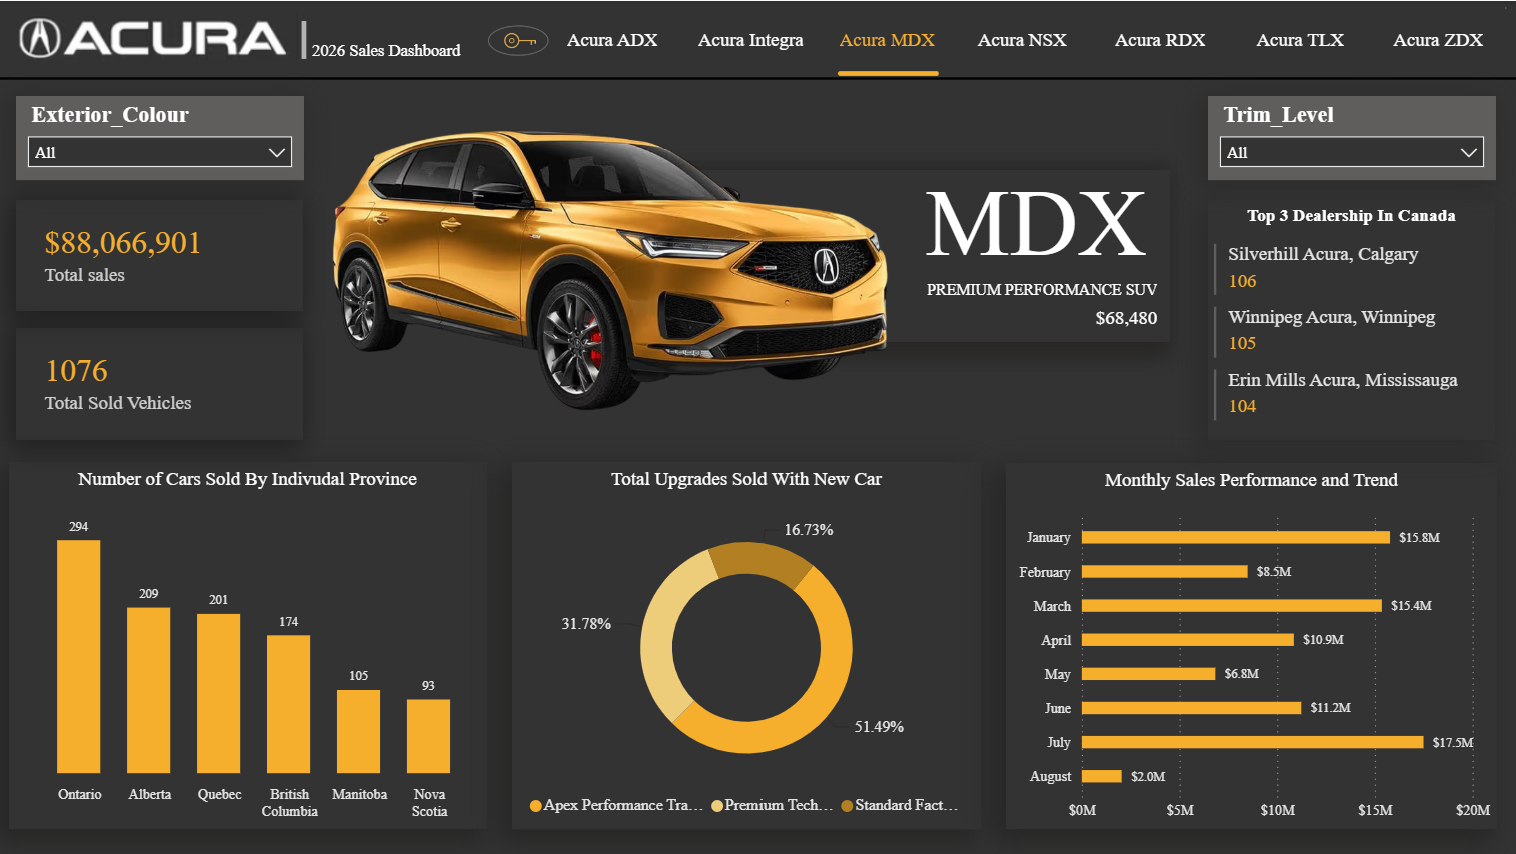

The dashboard page shown, as its layout file describes it:
{"tool":"powerbi","page":{"name":"Page 1","canvas":[1280,720],"ordinal":0},"visuals":[{"type":"actionButton","box":[467.3,12.3,100,40],"z":0,"group":"g1"},{"type":"shape","box":[0,59.3,1280,12.6],"z":0},{"type":"image","box":[0,1,251.9,63.2],"z":1000},{"type":"actionButton","box":[583.8,12.3,100,39.8],"z":1000,"group":"g1"},{"type":"actionButton","box":[698.3,12.3,100,39.8],"z":2000,"group":"g1"},{"type":"shape","box":[248,16.5,18.5,32.1],"z":2000},{"type":"actionButton","box":[812.8,12.3,100,39.8],"z":3000,"group":"g1"},{"type":"textbox","box":[258.9,27.4,144.6,29.3],"z":3000},{"type":"advancedSlicerVisual","fields":{"Values":["Sales_Data_Master.Model"]},"box":[1262.8,0,17.2,12.5],"z":4000},{"type":"actionButton","box":[929.2,12.3,100,39.8],"z":4000,"group":"g1"},{"type":"actionButton","box":[1046.6,12.3,100,39.8],"z":5000,"group":"g1"},{"type":"cardVisual","title":"6","fields":{"Data":["Sales_Data_Master.Total Sold Vehicles"]},"box":[14.6,275.6,242.3,93.8],"z":5000},{"type":"actionButton","box":[1163.1,12.3,100,39.8],"z":6000,"group":"g1"},{"type":"slicer","fields":{"Values":["Sales_Data_Master.Exterior_Colour"]},"box":[14.6,80.5,242.7,71.2],"z":6000},{"type":"slicer","fields":{"Values":["Sales_Data_Master.Trim_Level"]},"box":[1019.5,80.2,242.7,71.2],"z":7000},{"type":"columnChart","title":"Number of Cars Sold By Indivudal Province","fields":{"Category":["Sales_Data_Master.Province"],"Y":["Sales_Data_Master.Total Sold Vehicles"]},"box":[8.7,388.2,402.7,309.6],"z":8000},{"type":"donutChart","title":"Total Upgrades Sold With New Car","fields":{"Category":["Sales_Data_Master.Upgrades_Package_Selected (groups) (groups) (groups)"],"Y":["Sales_Data_Master.Total Sold Vehicles"]},"box":[432.9,387.9,394.7,309.7],"z":9000},{"type":"multiRowCard","title":"Top 3 Dealership In Canada","fields":{"Values":["Sales_Data_Master.Total Sold Vehicles","Sales_Data_Master.Dealership"]},"box":[1019.1,168.1,242.3,202.3],"z":10000},{"type":"textbox","box":[550.1,142.7,437.3,144.9],"z":11000},{"type":"cardVisual","fields":{"Data":["model_visual.Foolproof_Car_Image"]},"box":[257.2,66,516.3,323.2],"z":12000},{"type":"cardVisual","fields":{"Data":["model_visual.Master_Home_Images"]},"box":[266.9,76.7,739.5,283.4],"z":13000},{"type":"cardVisual","title":"6","fields":{"Data":["Sales_Data_Master.Total sales"]},"box":[14.6,167.9,242.3,93.8],"z":14000},{"type":"cardVisual","title":"6","fields":{"Data":["Min(Sales_Data_Master.Model_type)","Min(Sales_Data_Master.Base_MSRP_CAD)"]},"box":[742.4,233.9,239.7,47.6],"z":15000},{"type":"group","id":"g1","title":"Group 1","box":[467.3,12.3,795.3,40],"z":16000},{"type":"image","box":[410.1,10.9,56.1,46.2],"z":17000},{"type":"shape","box":[707.1,53.7,85.3,14.4],"z":18000},{"type":"shape","box":[475.2,53.7,85.3,14.4],"z":19000},{"type":"shape","box":[938,53.7,85.3,14.4],"z":20000},{"type":"shape","box":[592.1,53.7,85.3,14.4],"z":21000},{"type":"shape","box":[1171.7,53.7,85.3,14.4],"z":22000},{"type":"shape","box":[1055.8,53.7,85.3,14.4],"z":23000},{"type":"shape","box":[822,53.7,85.3,14.4],"z":24000},{"type":"barChart","title":"Monthly Sales Performance and Trend","fields":{"Category":["Sales_Data_Master.Sale_Date.Variation.Date Hierarchy.Month"],"Y":["Sales_Data_Master.Total sales"]},"box":[848.8,389,414.3,308.8],"z":25000}]}

Visuals, with their boxes in screenshot pixels (x1, y1, x2, y2), scaled from the page's 1280x720 canvas onto the 1516x854 screenshot:
actionButton: 553,15,672,62
shape: 0,70,1515,85
image: 0,1,298,76
actionButton: 691,15,810,62
actionButton: 827,15,945,62
shape: 294,20,316,58
actionButton: 963,15,1081,62
textbox: 307,32,478,67
advancedSlicerVisual - Sales_Data_Master.Model: 1496,0,1515,15
actionButton: 1101,15,1219,62
actionButton: 1240,15,1358,62
"6" cardVisual: 17,327,304,438
actionButton: 1378,15,1496,62
slicer - Sales_Data_Master.Exterior_Colour: 17,95,305,180
slicer - Sales_Data_Master.Trim_Level: 1207,95,1495,180
"Number of Cars Sold By Indivudal Province" columnChart: 10,460,487,828
"Total Upgrades Sold With New Car" donutChart: 513,460,980,827
"Top 3 Dealership In Canada" multiRowCard: 1207,199,1494,439
textbox: 652,169,1169,341
cardVisual - model_visual.Foolproof_Car_Image: 305,78,916,462
cardVisual - model_visual.Master_Home_Images: 316,91,1192,427
"6" cardVisual: 17,199,304,310
"6" cardVisual: 879,277,1163,334
"Group 1" group: 553,15,1495,62
image: 486,13,552,68
shape: 837,64,938,81
shape: 563,64,664,81
shape: 1111,64,1212,81
shape: 701,64,802,81
shape: 1388,64,1489,81
shape: 1250,64,1351,81
shape: 974,64,1075,81
"Monthly Sales Performance and Trend" barChart: 1005,461,1496,828
